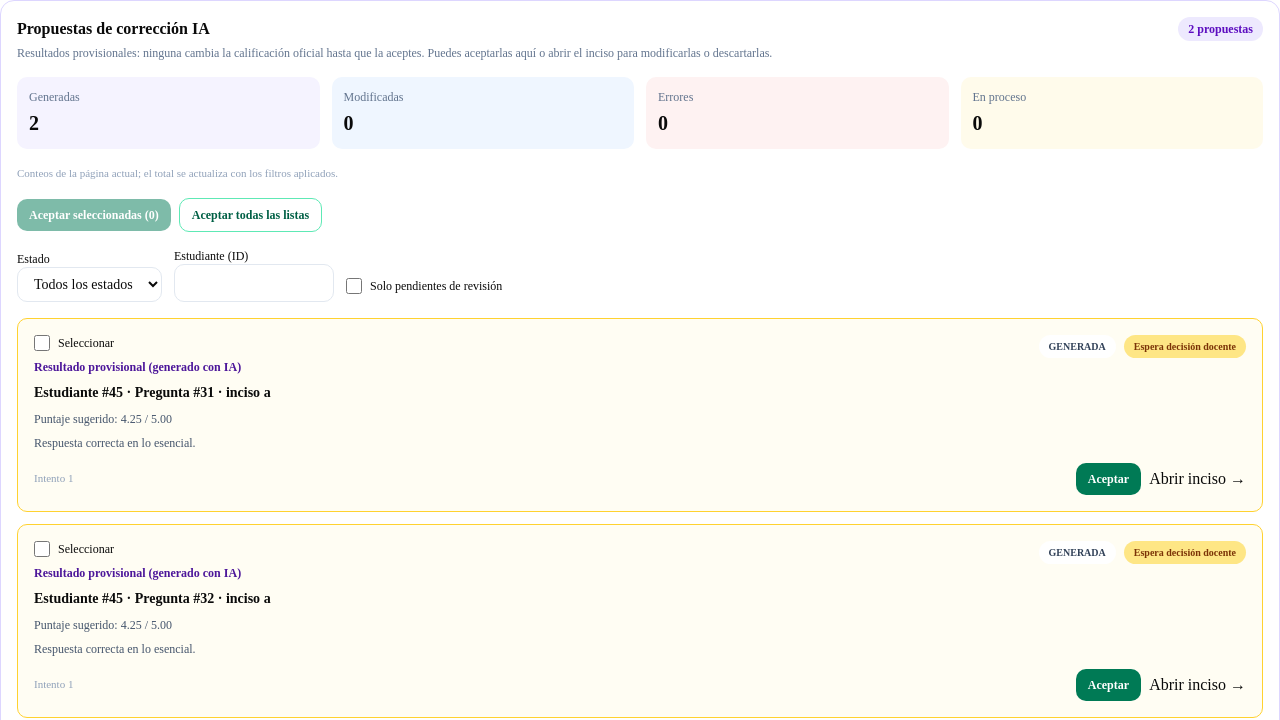
Test case: aceptación desde la bandeja › informa las que fallan sin detener las demás
Step 1. Click the checkbox named "Seleccionar propuesta 1" → x=42, y=342, box [34,334,50,350]
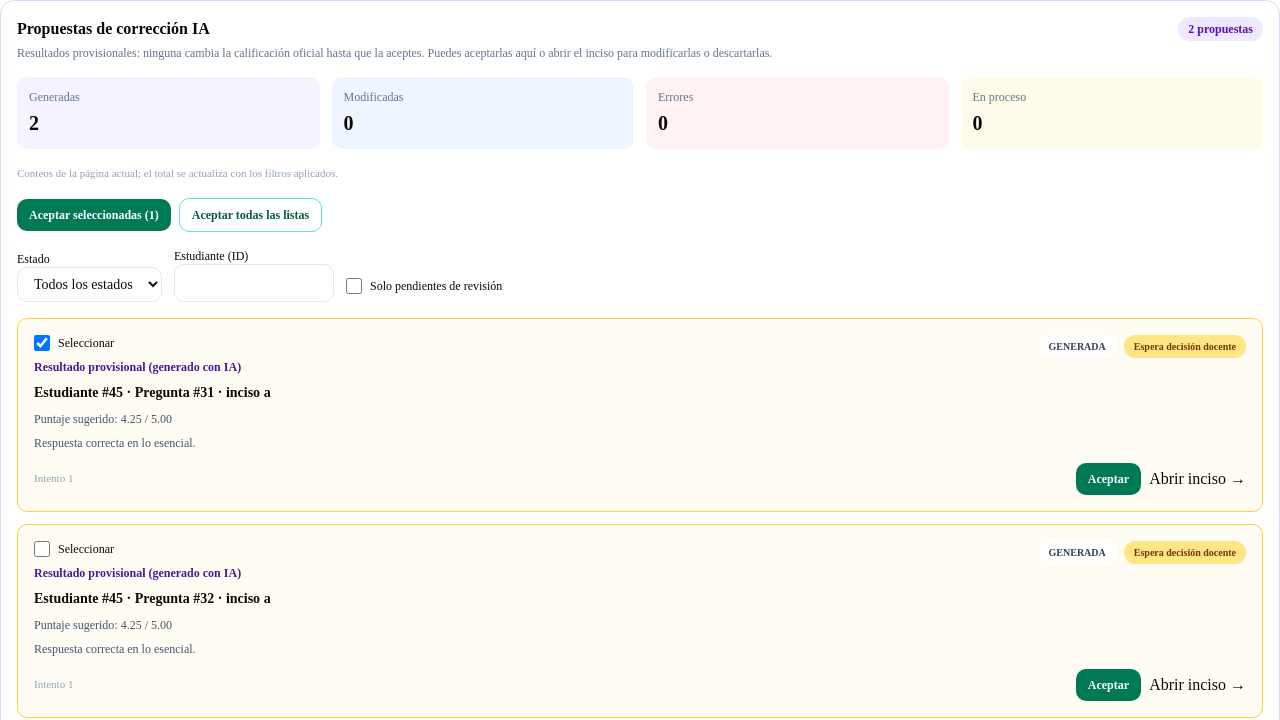
Step 2. Click the checkbox named "Seleccionar propuesta 2" → x=42, y=548, box [34,540,50,556]
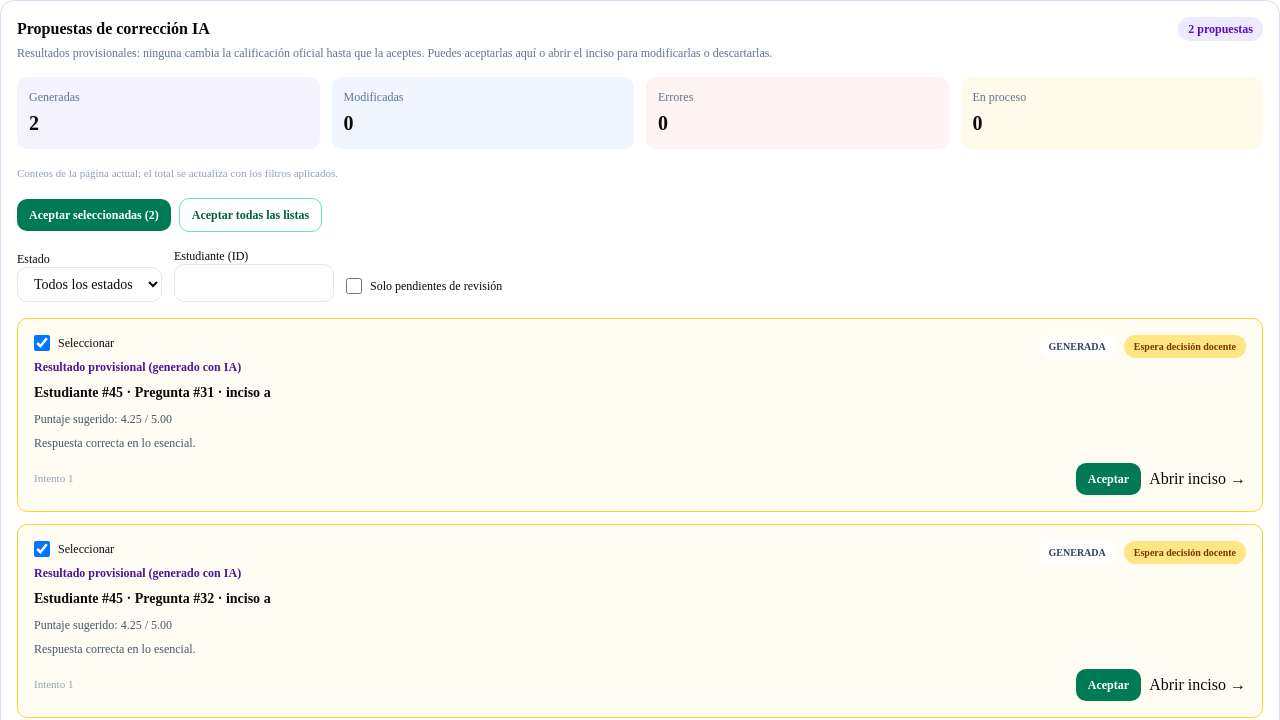
Step 3. Click the button "Aceptar seleccionadas (2)" → x=94, y=214, box [17,198,171,230]
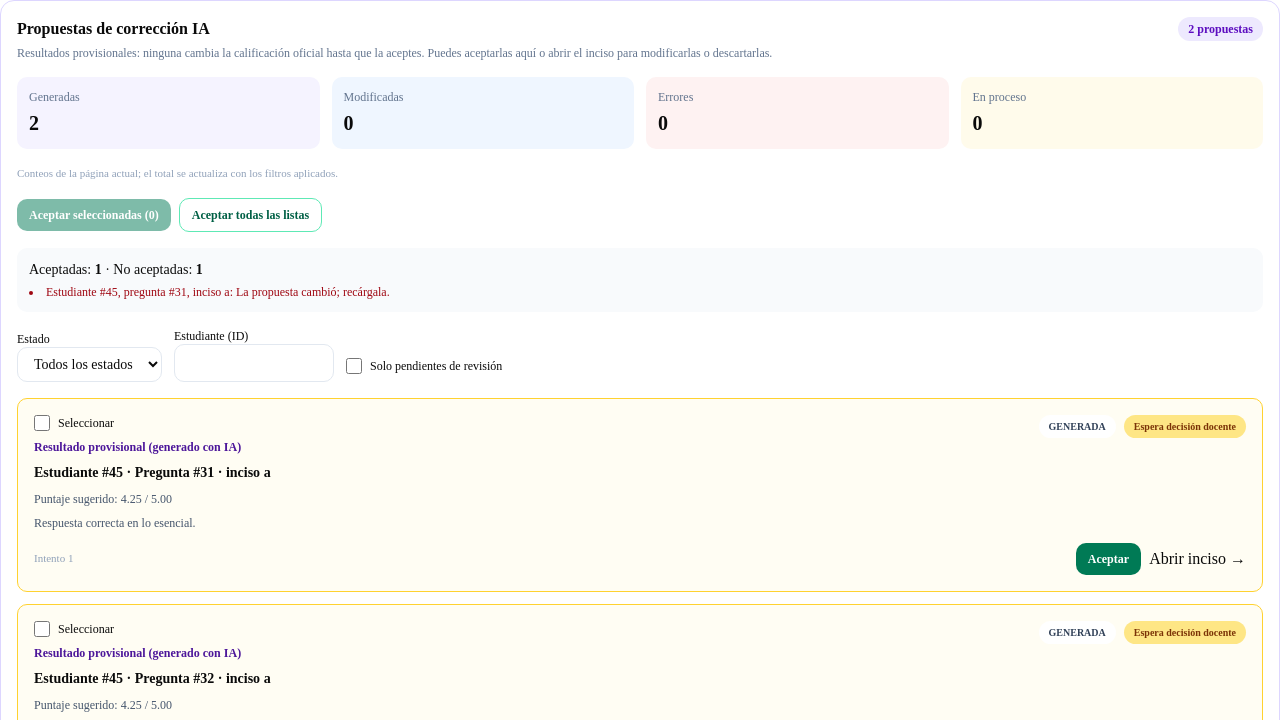
Expected: the message named "Resultado de la aceptación" shows "Aceptadas: 1", [17,248,1263,312]
Expected: the message named "Resultado de la aceptación" shows "No aceptadas: 1", [17,248,1263,312]
Expected: the message named "Resultado de la aceptación" shows "La propuesta cambió; recárgala.", [236,284,390,298]
